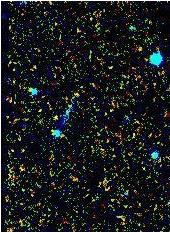star: (41, 99, 71, 129)
